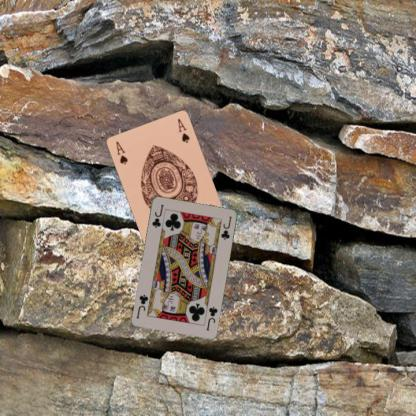As: (114, 138, 129, 166)
Jc: (203, 304, 219, 332), (149, 202, 165, 229)
